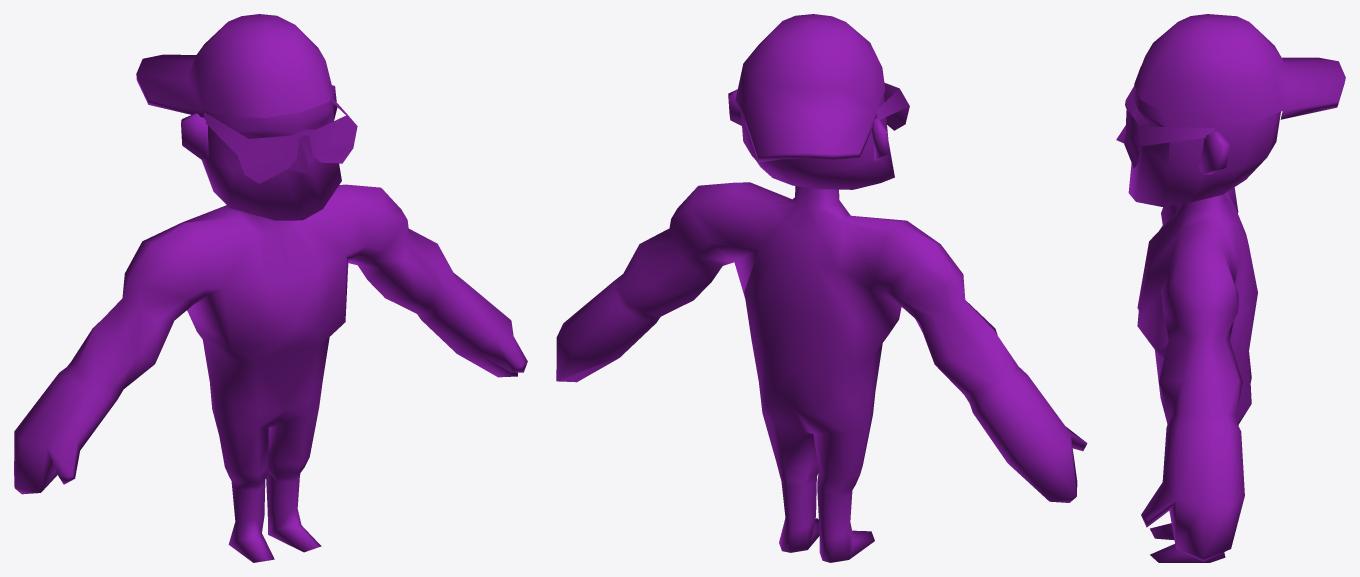
File: brodude.FBX
3 views of the same model, side by side, from view 1: azimuth 30°, elevation 25°; view 2: azimuth 150°, elevation 25°; view 3: azimuth 270°, elevation 25° (orthographic). The views are drawn at different scales.
Visible parts, largest first — view 1: Sphere001, Object001, Object002; view 2: Sphere001, Object001, Object002; view 3: Sphere001, Object001, Object002.
Boxes of the visible parts, x1,y1,x2,y2 form: Sphere001: [14, 85, 527, 562]; Object001: [136, 14, 333, 117]; Object002: [204, 97, 357, 183]; Sphere001: [556, 89, 1087, 562]; Object001: [735, 14, 885, 162]; Object002: [876, 82, 909, 130]; Sphere001: [1116, 88, 1280, 562]; Object001: [1134, 14, 1345, 125]; Object002: [1124, 85, 1214, 167].
Bounding box in the file's own units: 20.86 × 20.27 × 8.06.
